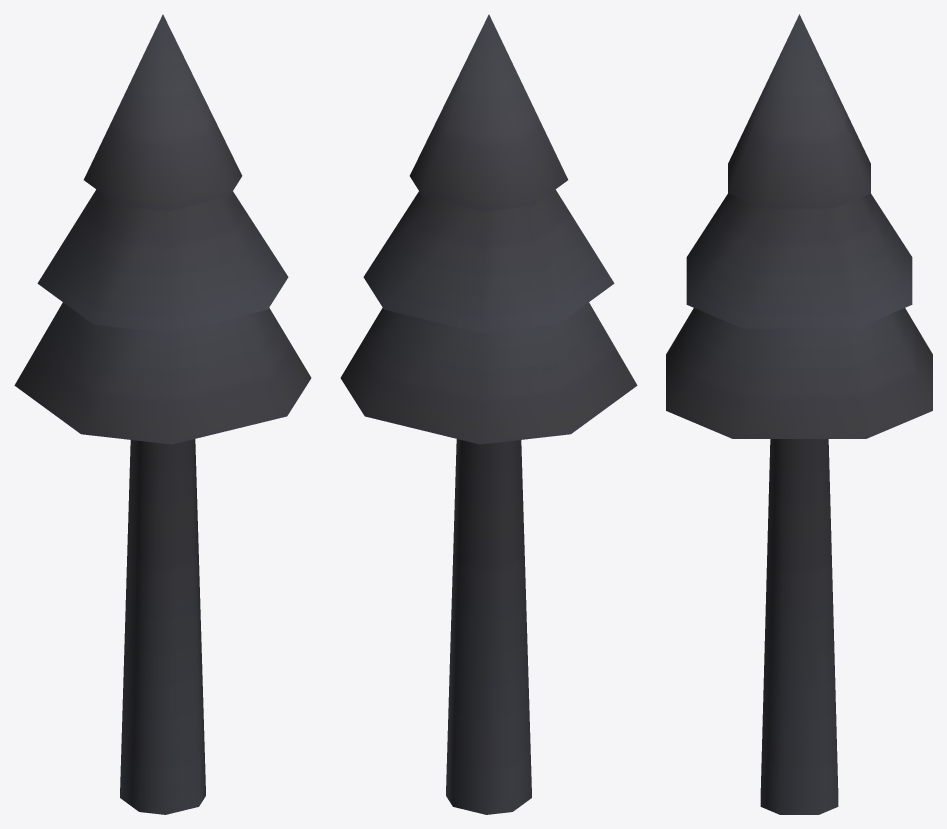
File: kenney-marble-tree-tall.glb
3 views of the same model, side by side, from view 1: azimuth 30°, elevation 25°; view 2: azimuth 150°, elevation 25°; view 3: azimuth 270°, elevation 25° (orthographic).
Visible parts, largest first — view 1: tree-tall; view 2: tree-tall; view 3: tree-tall.
Boxes of the visible parts, left/top/right/bottom form: tree-tall: left=14, top=14, right=311, bottom=814; tree-tall: left=340, top=14, right=637, bottom=814; tree-tall: left=666, top=14, right=932, bottom=814.
Bounding box in the file's own units: 0.7499 × 2.43 × 0.7499.
Materials: 1 (1 with a texture image).
